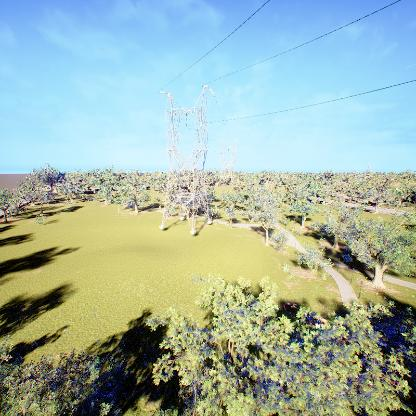tower: (151, 82, 219, 239)
